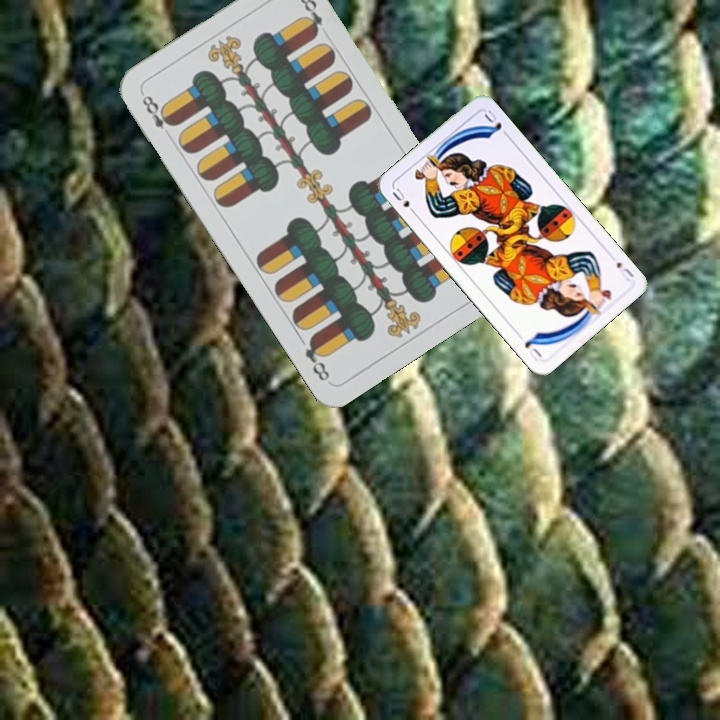E8: (137, 89, 178, 132)
SU: (388, 184, 420, 219), (612, 258, 637, 284)
